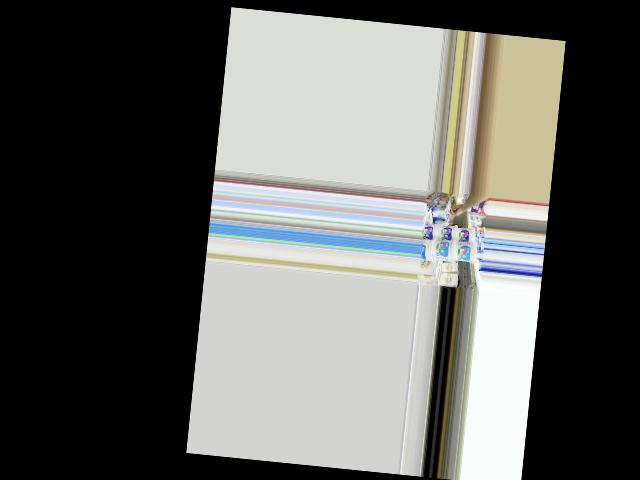cotage: (436, 224, 457, 243)
